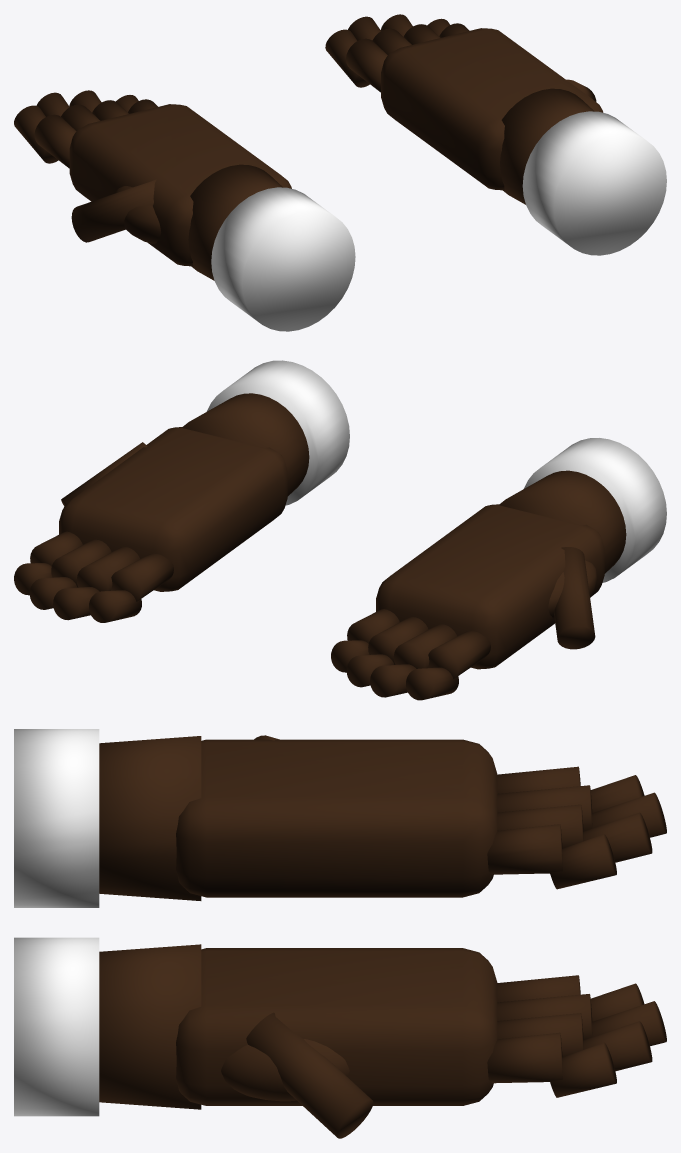
File: work-gloves.obj
3 views of the same model, one above another, from view 1: azimuth 30°, elevation 25°; view 2: azimuth 150°, elevation 25°; view 3: azimuth 270°, elevation 25° (orthographic). The views are drawn at different scales.
Parts seen in each view (by area): view 1: gloves; view 2: gloves; view 3: gloves.
Boxes of the visible parts, <box> form: gloves: <box>14,14,666,331</box>; gloves: <box>14,360,666,700</box>; gloves: <box>14,729,666,1138</box>.
Size of the model in its own units: 0.3693 by 0.08 by 0.2912.
